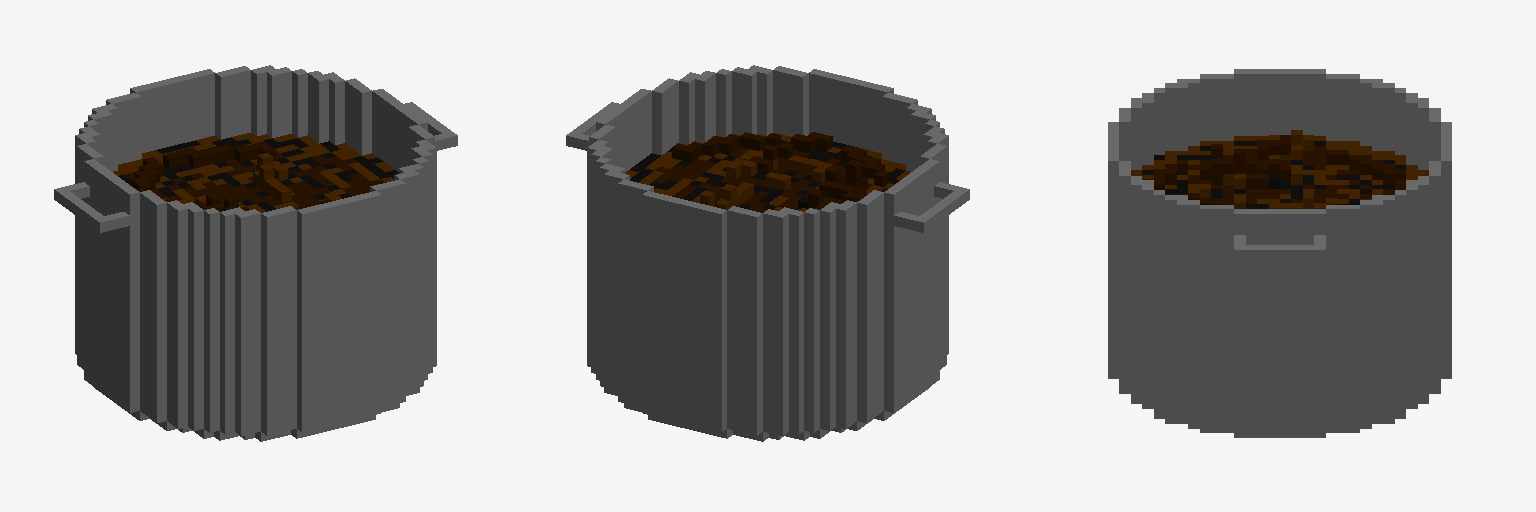
3 renders of one model, left to right at view 1: azimuth 30°, elevation 25°; view 2: azimuth 150°, elevation 25°; view 3: azimuth 270°, elevation 25°, orthographic.
Parts seen in each view (by area): view 1: object 1; view 2: object 1; view 3: object 1.
Part boxes in pixels (left/top/right/bottom): object 1: left=54, top=65, right=457, bottom=441; object 1: left=566, top=65, right=969, bottom=441; object 1: left=1108, top=69, right=1451, bottom=437.
Bounding box in the file's own units: 3.6 × 2.2 × 3.
1 materials, 1 textured.